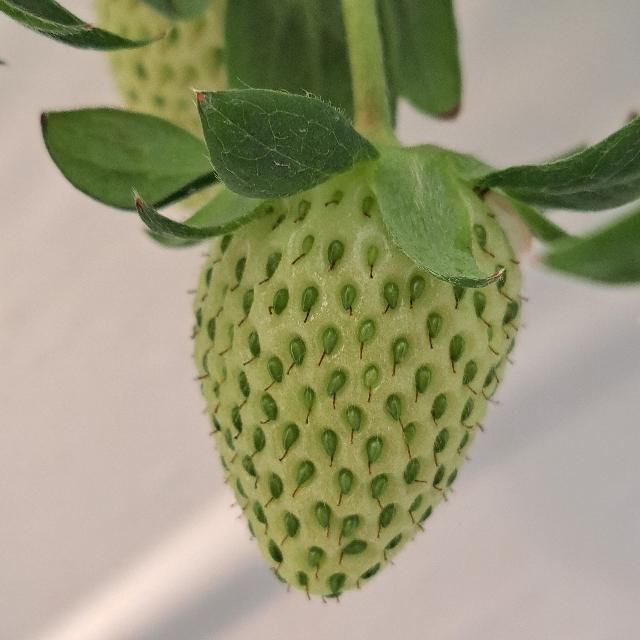Health_25: (192, 165, 522, 598)
